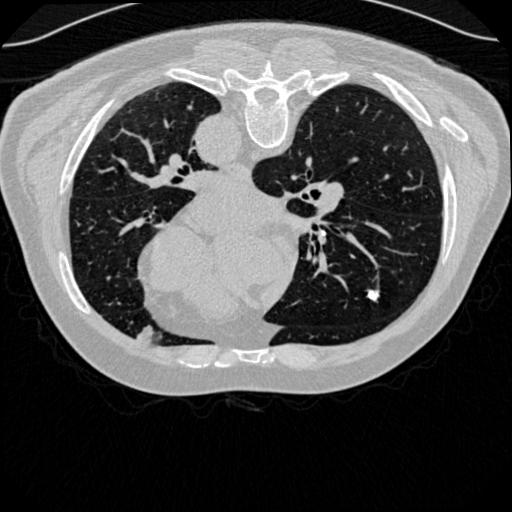nodule: (367, 288, 382, 303)
